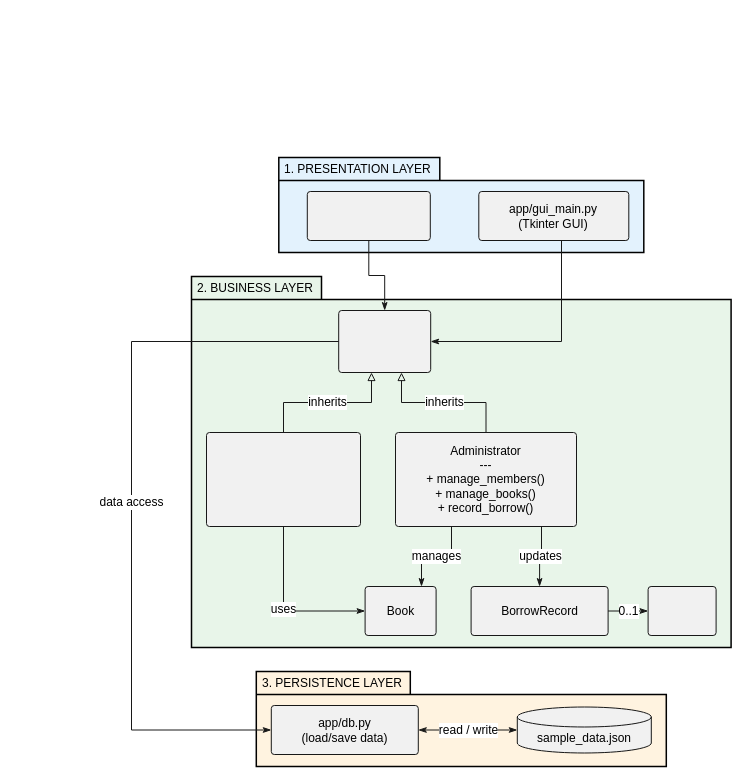
The diagram is 749 pixels wide and 784 high, and some of its shapes have lost their labels. The shapes that lost their labels are listed below. From the top down, each one's centre as x and y in pixels, then its label:
At (368,215): "app/main.py (Console CLI)".
At (384,341): "User --- + login()".
At (283,479): "Member --- + view_info() + search_books() + view_fines()".
At (681,611): "Fine".
